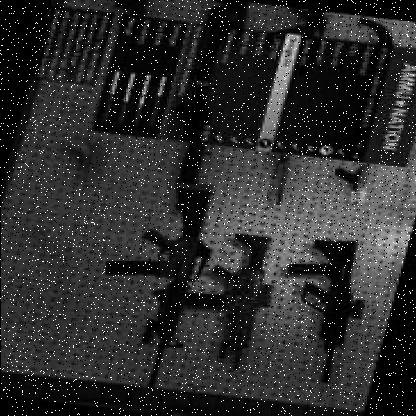rifle: (82, 170, 236, 390), (270, 232, 378, 382)
